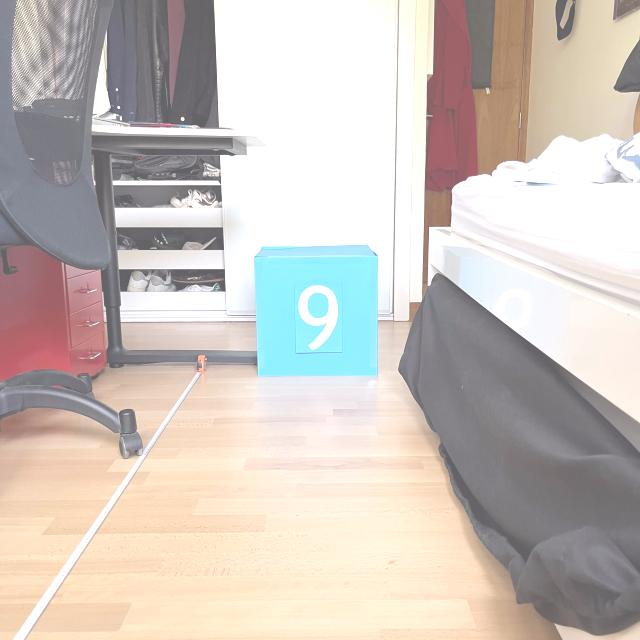box: (250, 240, 382, 379)
